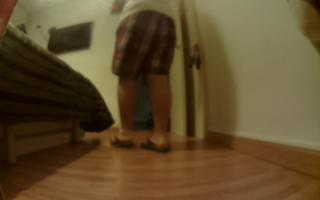person: (103, 1, 181, 156)
